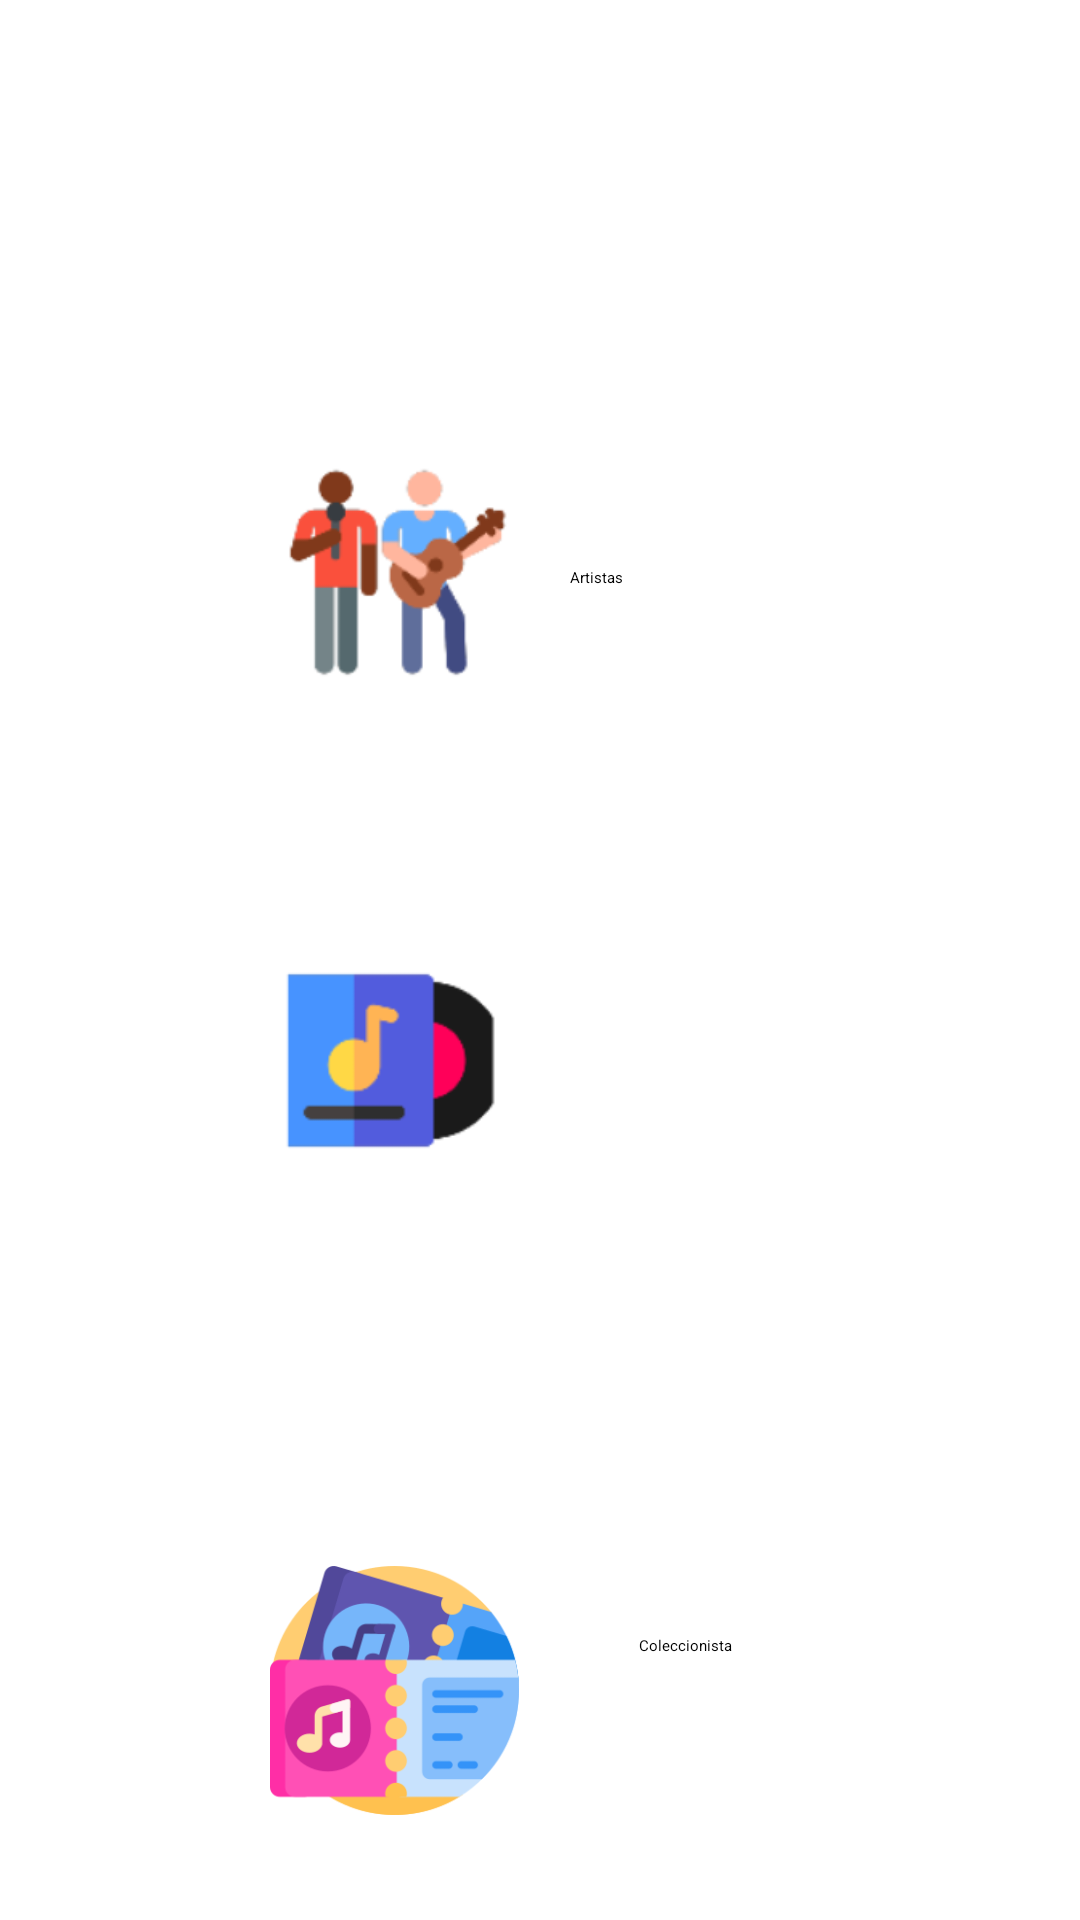

Where to tap for icons on this 1080w x 1920h app screen, as point (x, y):
Imagen del botón para acceder a los Álbumes: point (391, 1061)
